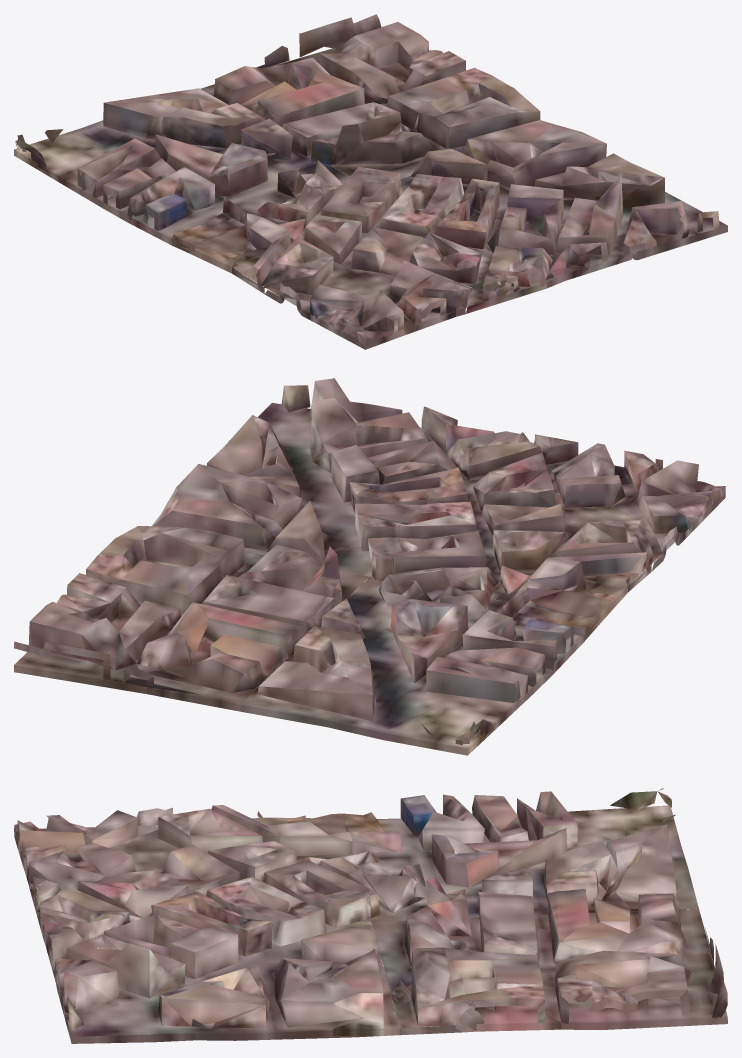
3 renders of one model, top to bottom at view 1: azimuth 30°, elevation 25°; view 2: azimuth 150°, elevation 25°; view 3: azimuth 270°, elevation 25°, orthographic. The views are drawn at different scales.
Visible parts, largest first — view 1: Mesh_0; view 2: Mesh_0; view 3: Mesh_0.
Boxes of the visible parts, x1,y1,x2,y2 form: Mesh_0: [14, 14, 727, 349]; Mesh_0: [14, 378, 725, 755]; Mesh_0: [14, 788, 727, 1043].
Bounding box in the file's own units: 532 × 74.38 × 659.
Materials: 2 (2 with a texture image).
